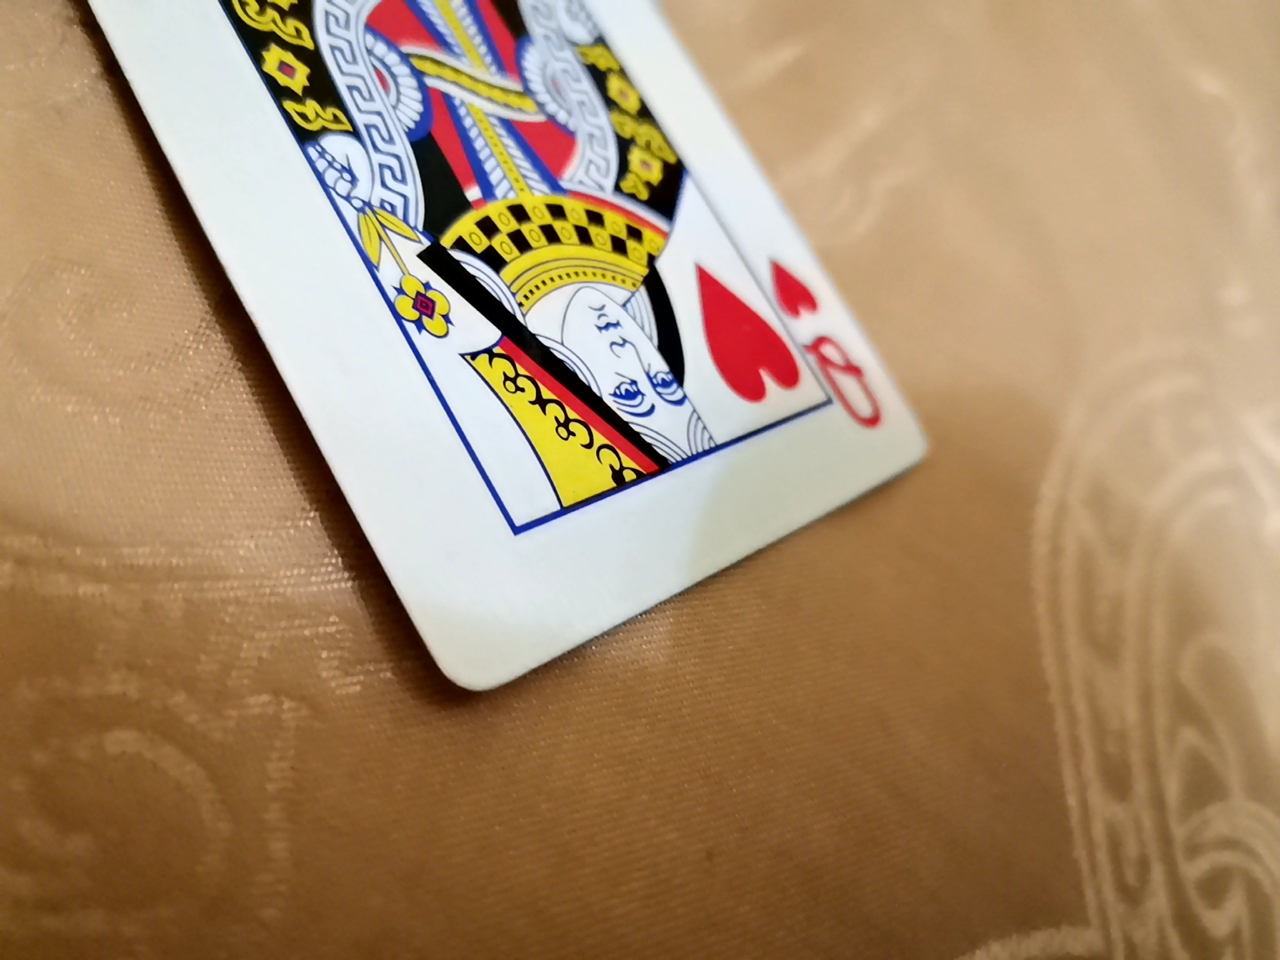hx q: (8, 10, 935, 727)
